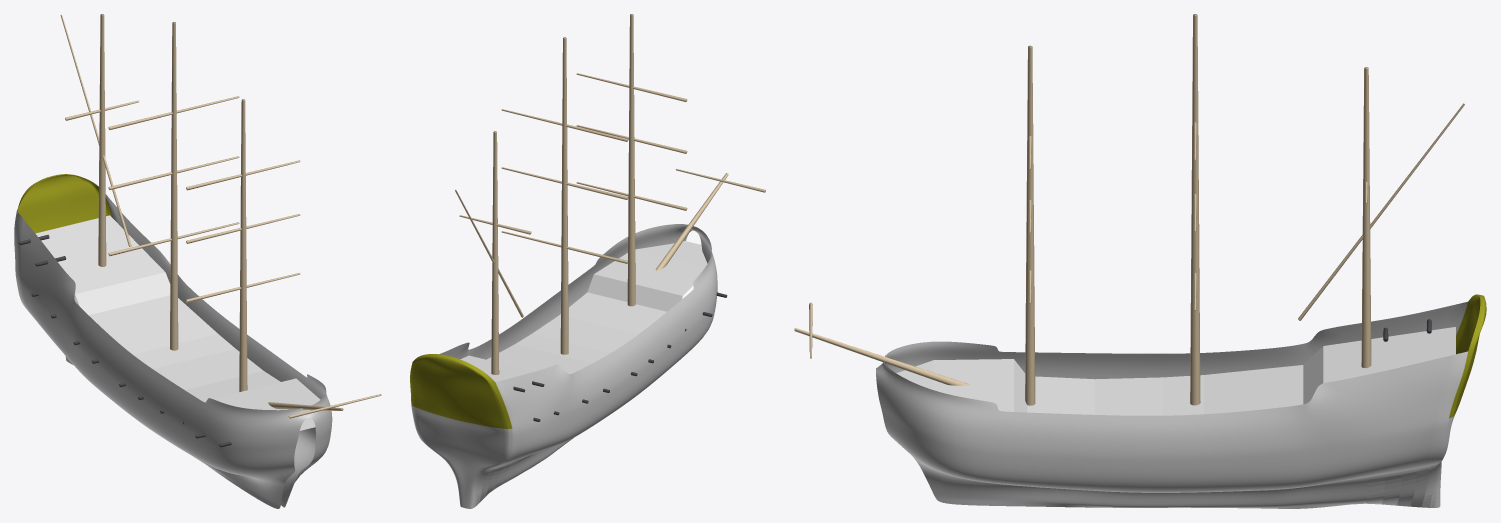
Rendered from hms_roebuck_1690.glb.
3 renders of one model, left to right at view 1: azimuth 30°, elevation 25°; view 2: azimuth 150°, elevation 25°; view 3: azimuth 270°, elevation 25°, orthographic. The views are drawn at different scales.
Visible parts, largest first — view 1: Plane, pont, GrandMat, Misaine, Artimon, Antenne; view 2: Plane, pont, GrandMat, Misaine, Artimon, Beaupre; view 3: Plane, pont, GrandMat, Misaine, Artimon, Beaupre, Antenne.
Part boxes in pixels (<box>): Plane: <box>14,174,332,508</box>; pont: <box>35,215,320,430</box>; GrandMat: <box>108,22,239,350</box>; Misaine: <box>186,99,300,391</box>; Artimon: <box>65,14,139,266</box>; Antenne: <box>60,14,131,246</box>; Plane: <box>410,224,717,508</box>; pont: <box>460,241,707,381</box>; GrandMat: <box>501,37,628,354</box>; Misaine: <box>576,14,687,306</box>; Artimon: <box>459,131,531,374</box>; Beaupre: <box>655,173,728,270</box>; Plane: <box>876,294,1486,508</box>; pont: <box>896,327,1455,415</box>; GrandMat: <box>1190,14,1200,405</box>; Misaine: <box>1025,45,1035,405</box>; Artimon: <box>1361,67,1371,368</box>; Beaupre: <box>794,327,969,385</box>; Antenne: <box>1298,103,1464,320</box>.
Size of the model in its own units: 8.55 by 25.85 by 33.13.
